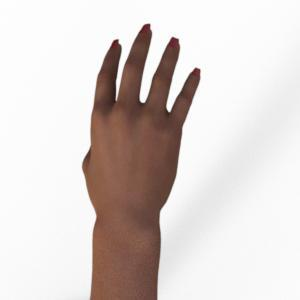paper: (91, 23, 202, 222)
